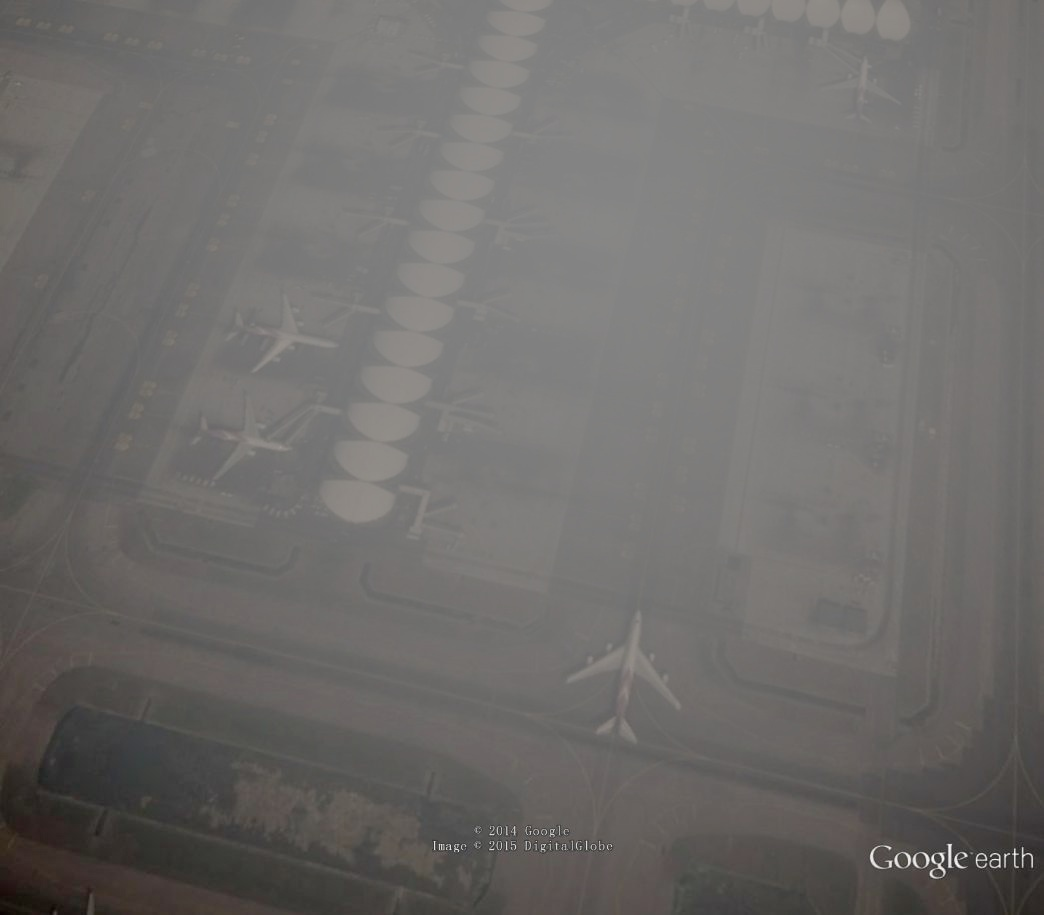aircraft: (558, 604, 684, 750), (184, 387, 301, 486), (223, 291, 345, 376), (813, 54, 906, 130)
